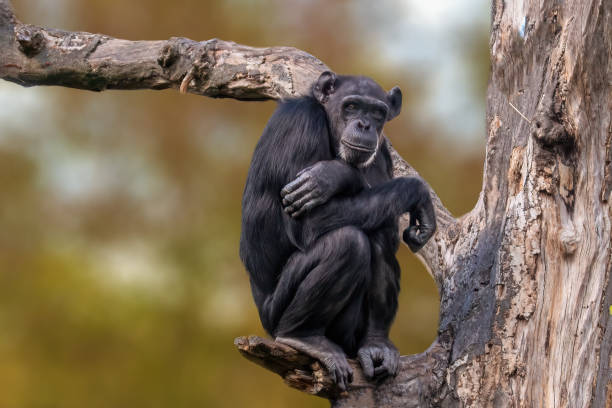chimpanzee: (307, 54, 414, 185)
